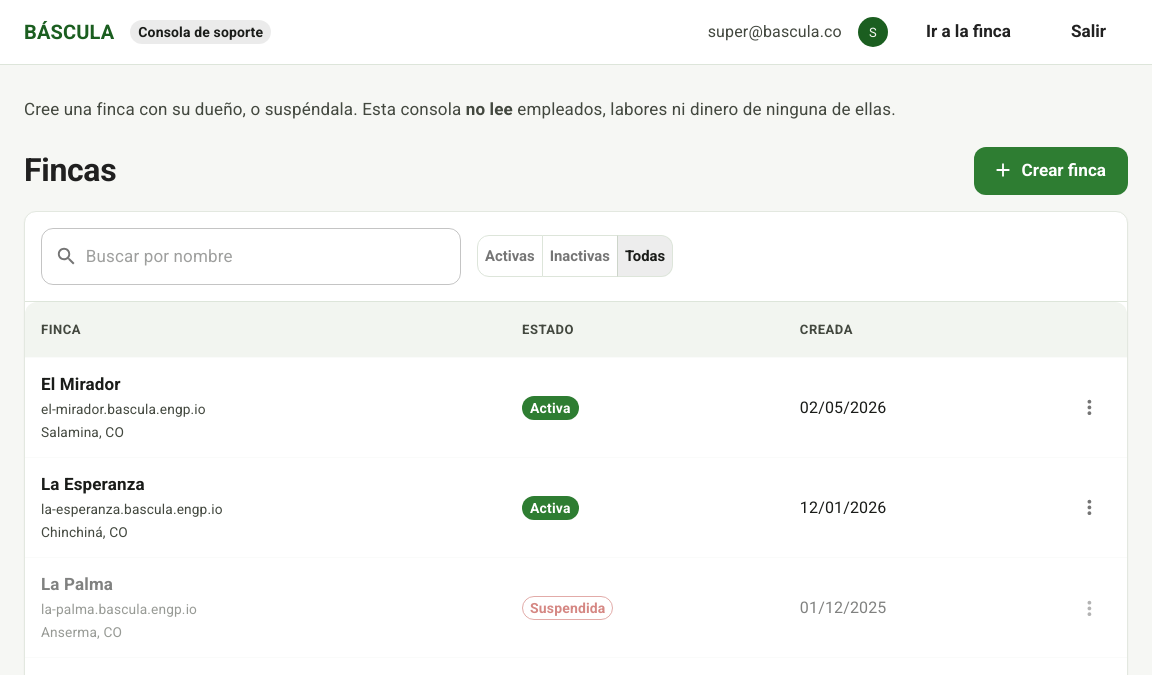
Test: SuperAdminPage — an operator who also has a farm › offers to go to the farm and takes them there
The width and height of the screenshot is (1152, 675).
Expected: the text "La Esperanza" is shown, [41,474,145,494]
Click the button "Ir a la finca".
click(968, 32)  # box [904,8,1033,56]
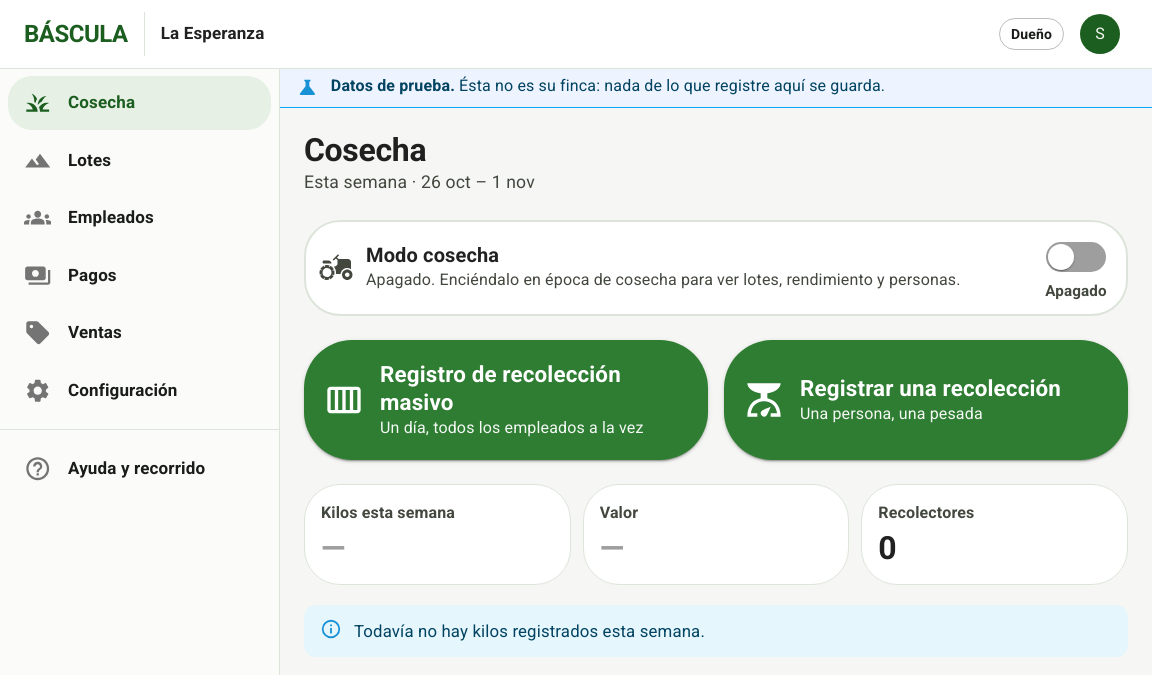
Expected: the button "Crear finca" is gone
